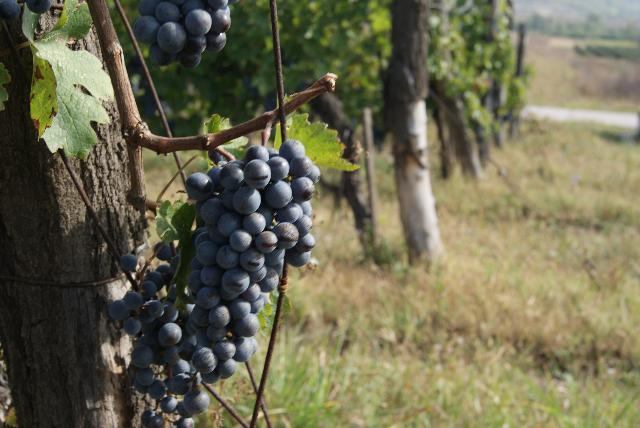grapes: (189, 140, 320, 381)
